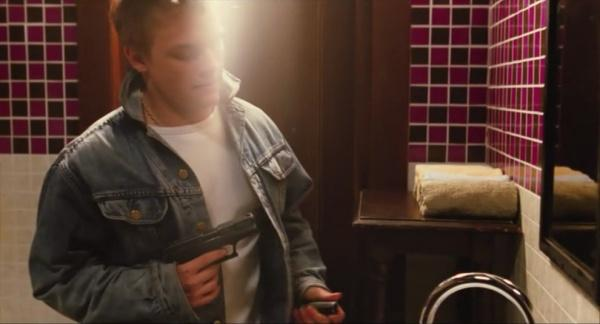Gun: (164, 210, 260, 271)
